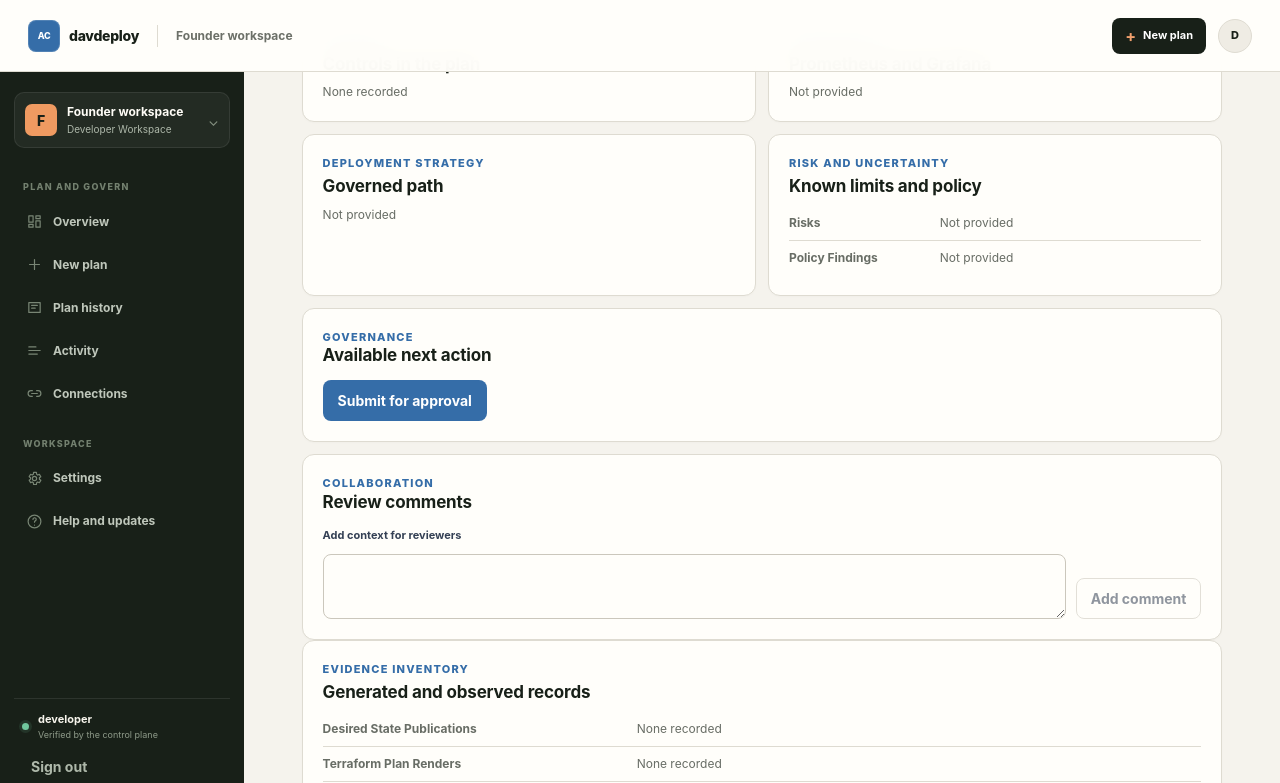
application routes › submits a draft using the exact backend contract
The width and height of the screenshot is (1280, 783).
(page scrolled)
Click the button "Submit for approval" at (405, 401), box [323,380,487,421]
(page scrolled)
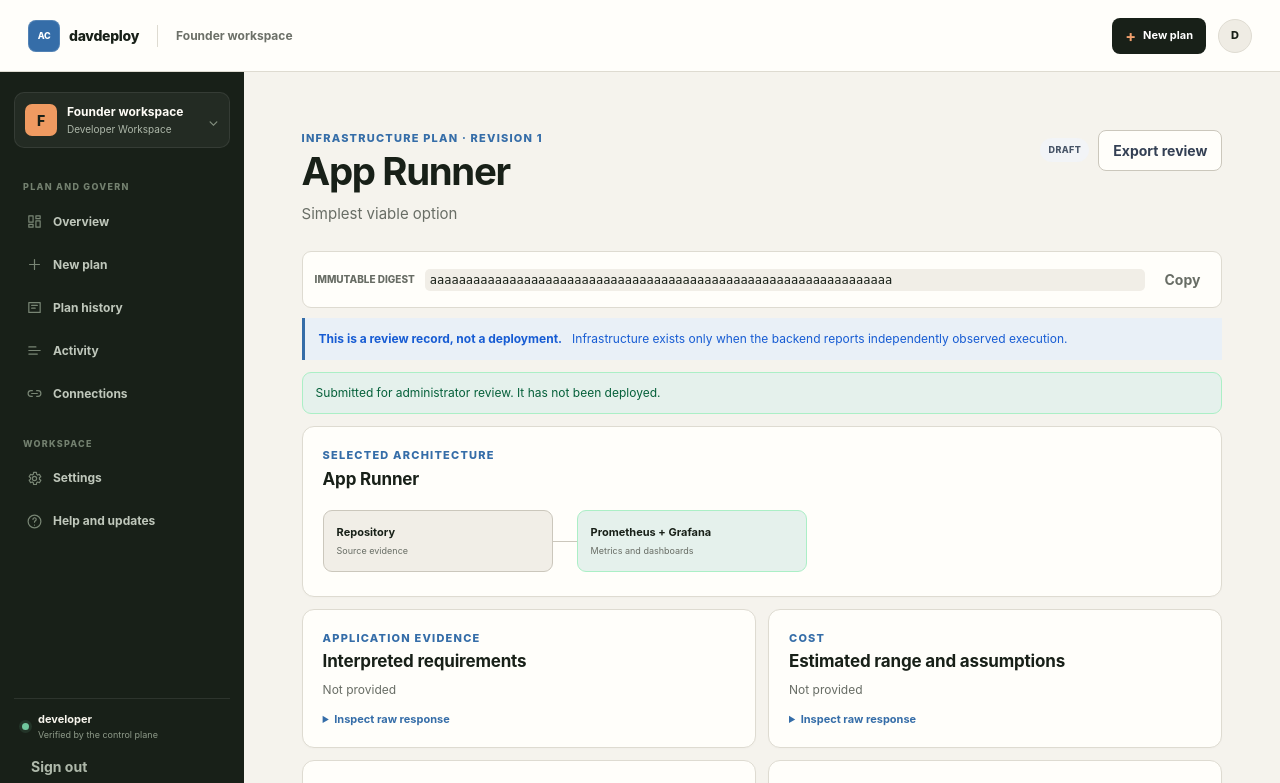
Expected: the text "Submitted for administrator review. It has not been deployed." is shown, [302,372,1222,414]
